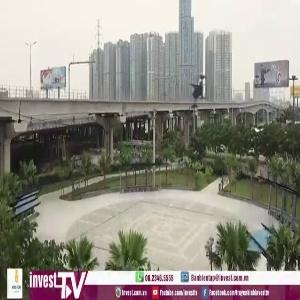drone: (167, 57, 238, 128)
